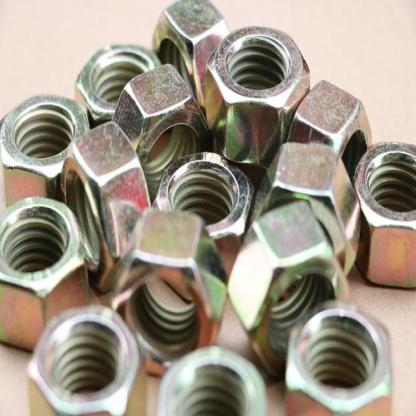FOD: (105, 204, 238, 378), (226, 192, 348, 377), (58, 116, 150, 294), (203, 22, 312, 164), (0, 192, 88, 352), (26, 300, 146, 415), (0, 90, 93, 217), (349, 132, 415, 282)
